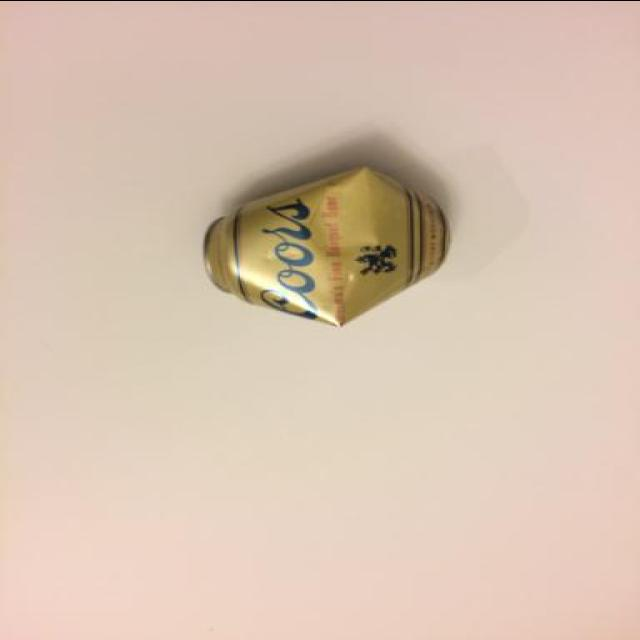litter: (183, 156, 470, 346)
